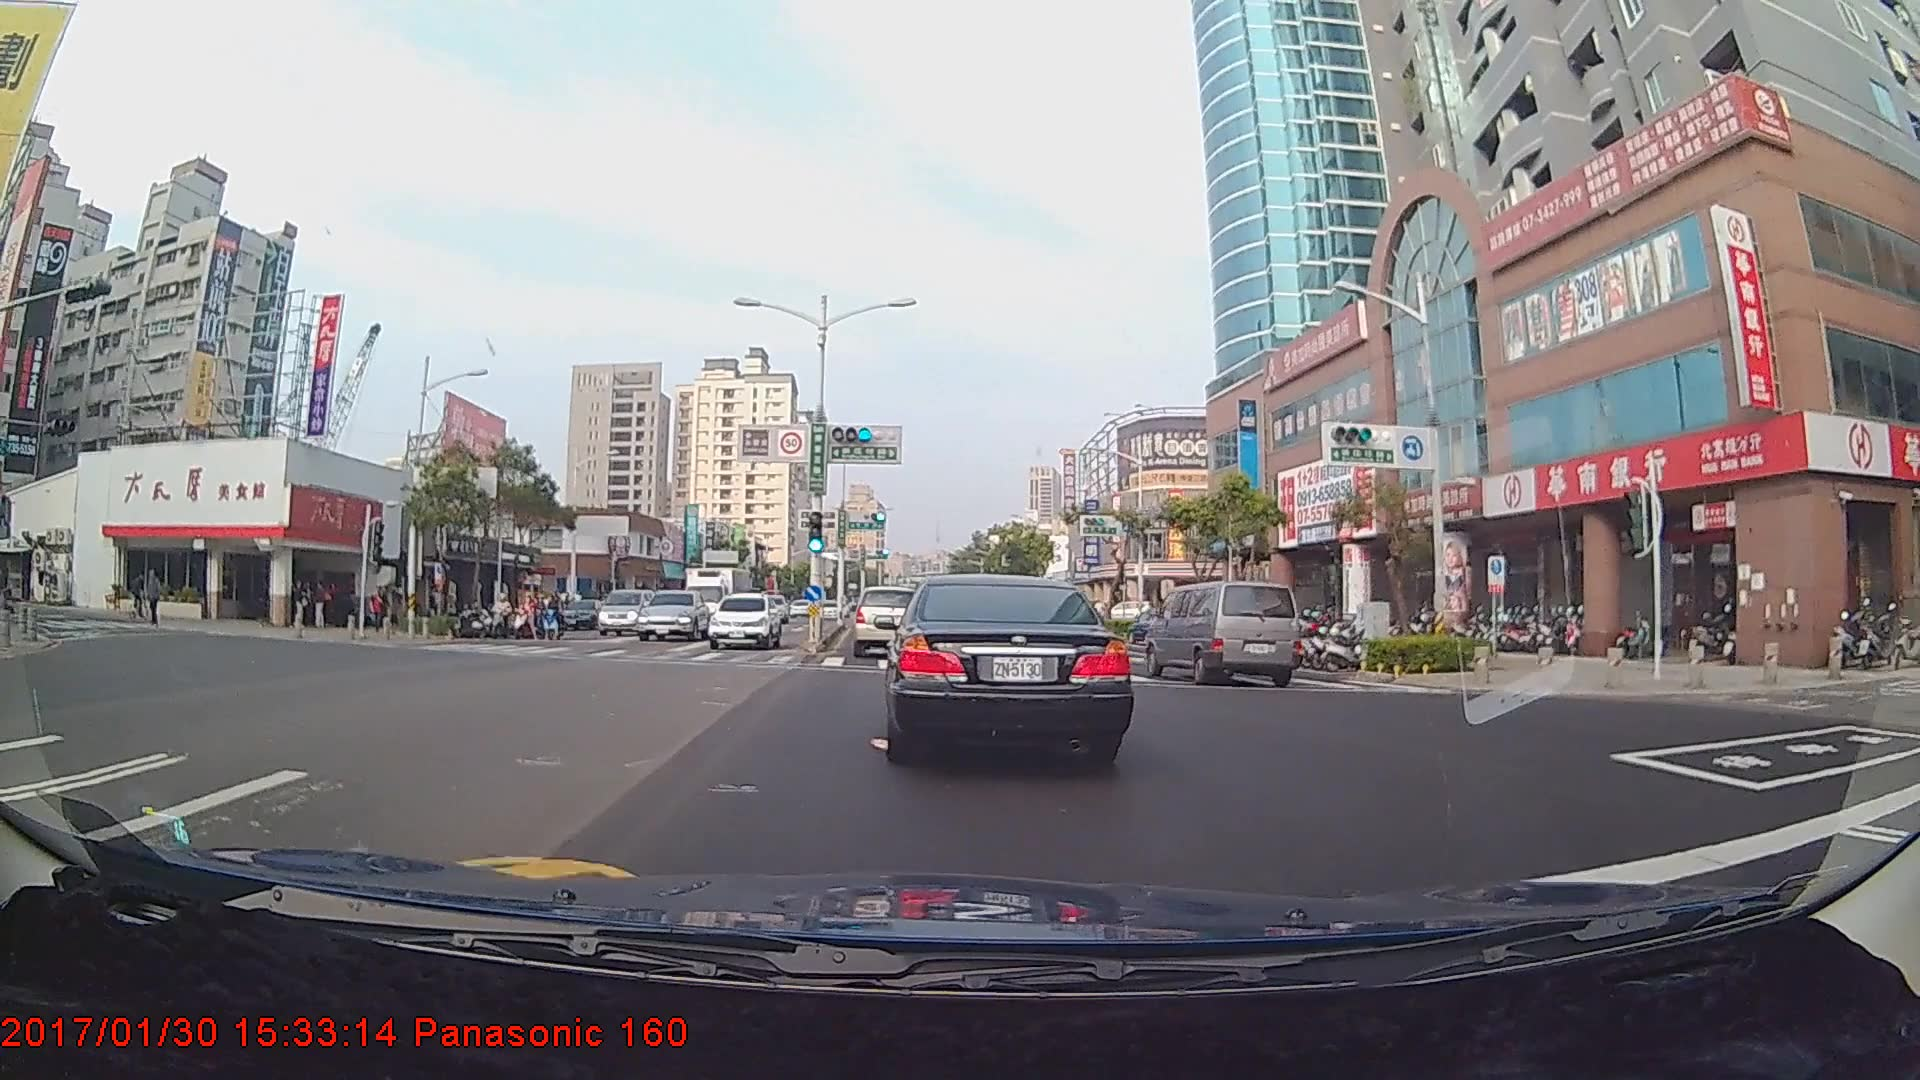pedestrian: (142, 569, 166, 626), (291, 579, 311, 633), (310, 580, 330, 630)
vehicle: (882, 568, 1128, 766), (1147, 579, 1299, 687), (851, 582, 927, 656), (685, 561, 758, 634), (707, 593, 783, 650), (634, 590, 710, 643), (593, 585, 655, 637)
